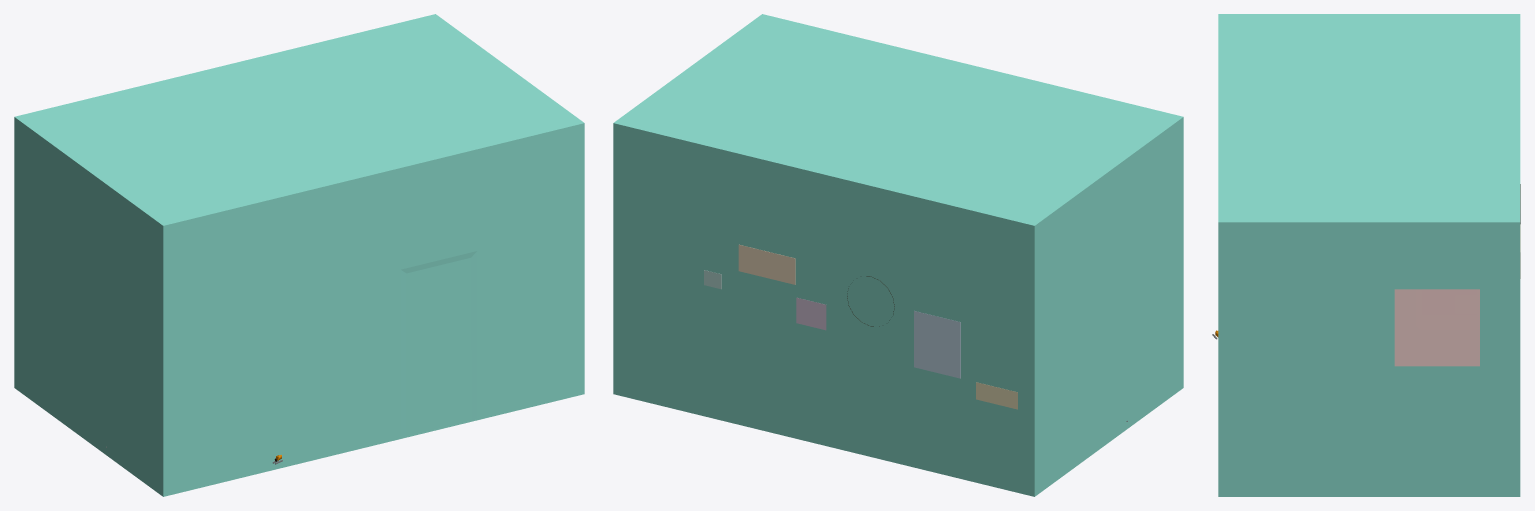
The model's file is 6DoganinrenkleriV4tumsahne.fbx.
3 renders of one model, left to right at view 1: azimuth 30°, elevation 25°; view 2: azimuth 150°, elevation 25°; view 3: azimuth 270°, elevation 25°, orthographic.
Visible parts, largest first — view 1: oda; view 2: oda, cerceve.004, cerceve.001, cerceve.003, cerceve.005; view 3: oda, cerceve.
Part boxes in pixels (bbox=[...]): oda: bbox=[14, 14, 584, 496]; oda: bbox=[613, 14, 1183, 496]; cerceve.004: bbox=[914, 311, 960, 378]; cerceve.001: bbox=[738, 244, 795, 284]; cerceve.003: bbox=[796, 297, 826, 330]; cerceve.005: bbox=[976, 382, 1017, 409]; oda: bbox=[1218, 14, 1520, 496]; cerceve: bbox=[1394, 289, 1479, 366].
Bounding box in the file's own units: 881 × 541 × 550.
